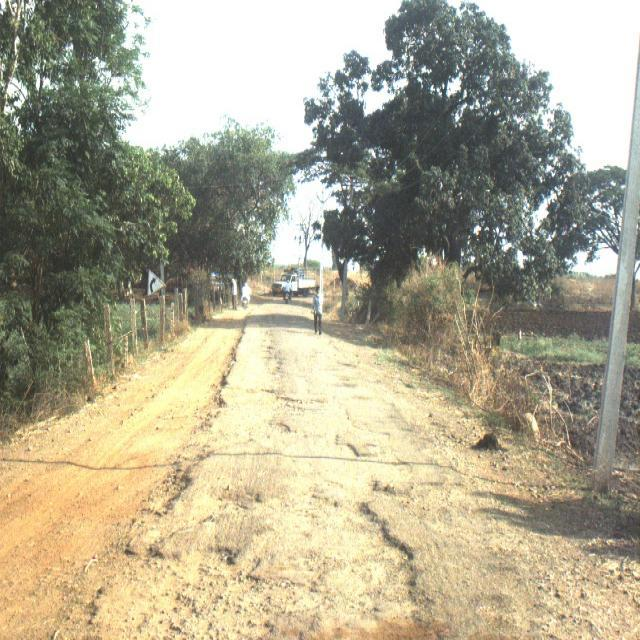pothole: (176, 530, 424, 640), (253, 352, 411, 519), (464, 524, 625, 640), (111, 429, 222, 529), (47, 546, 161, 630)
